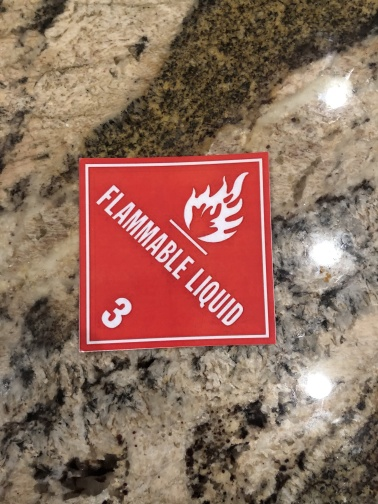FlammableLiquid: (80, 156, 279, 355)
